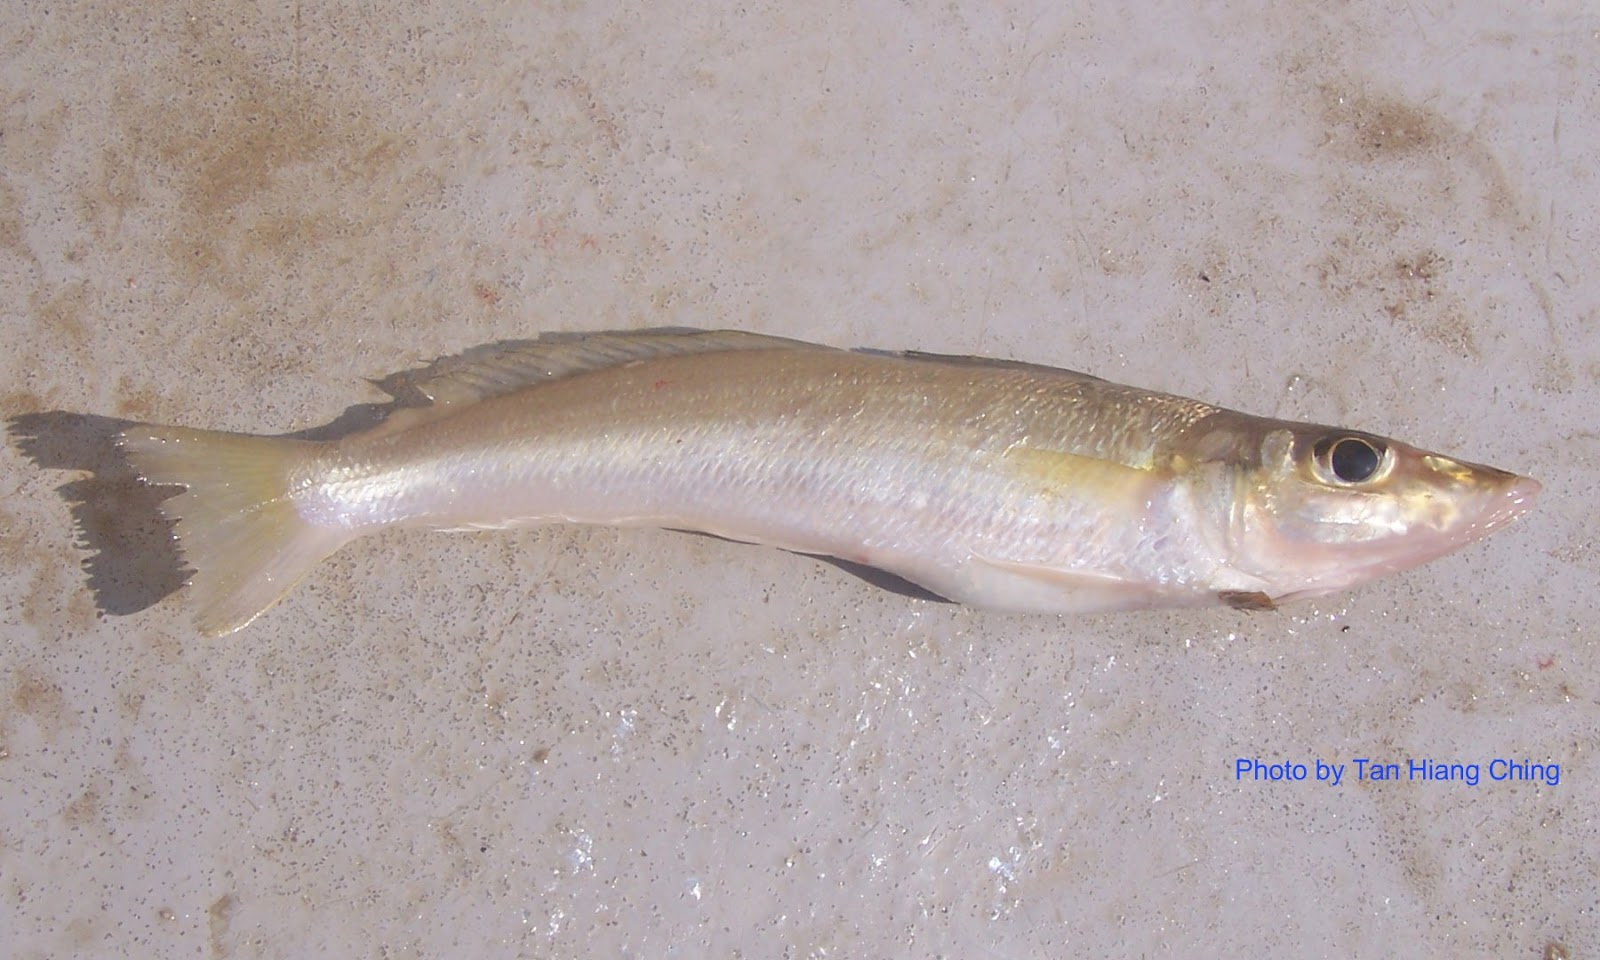kiss: (101, 289, 1551, 661)
